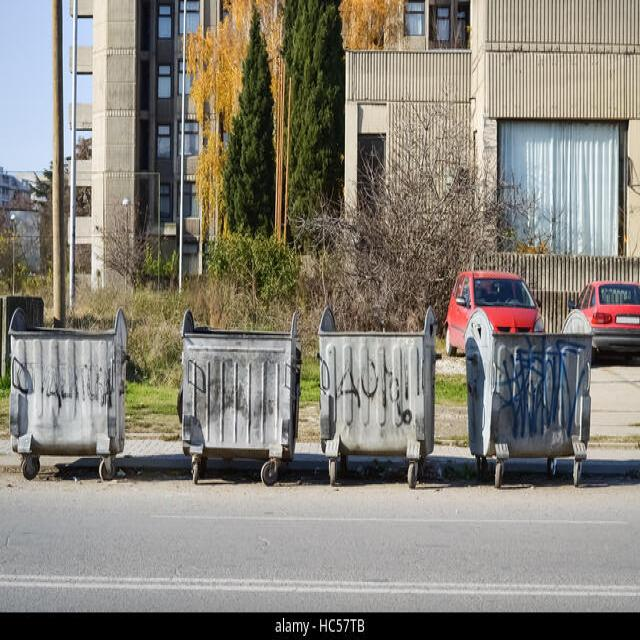plastic: (172, 317, 306, 487), (322, 327, 436, 498)
